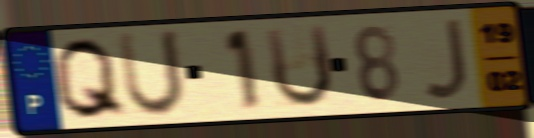1: (223, 27, 264, 113)
8: (352, 23, 402, 103)
J: (420, 15, 471, 103)
Q: (49, 34, 131, 123)
U: (114, 27, 188, 121), (262, 21, 336, 112)
